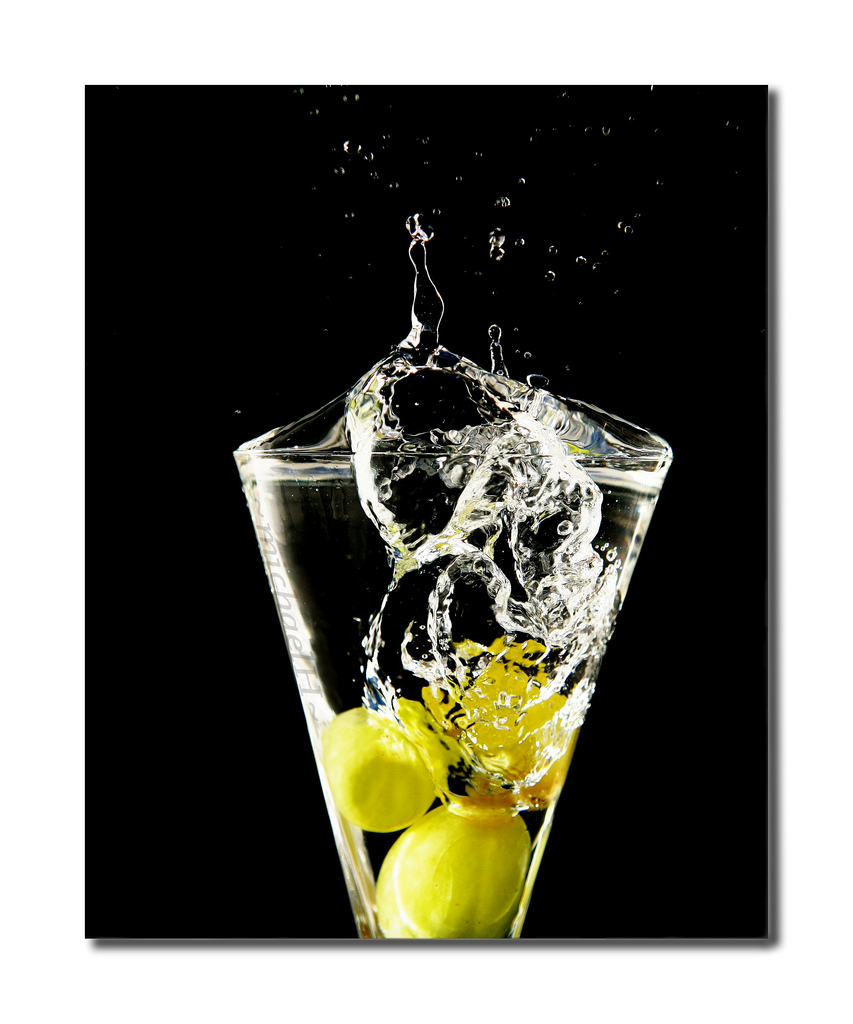glass of water: (235, 433, 659, 950)
